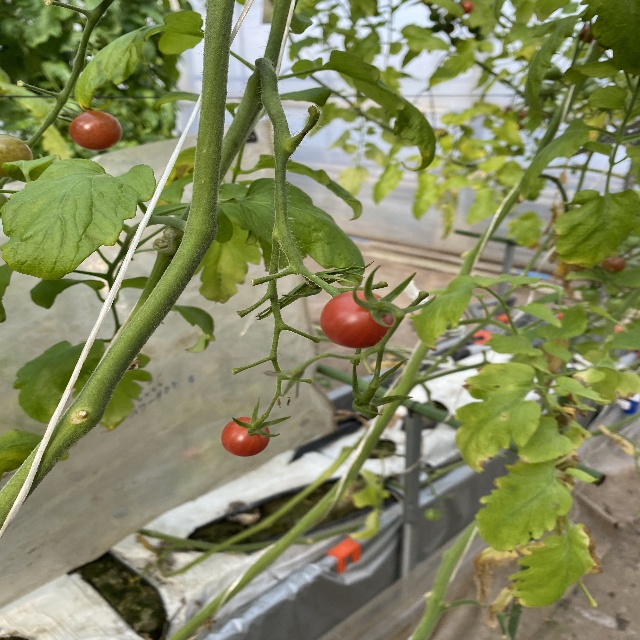l_fully_ripened: (319, 291, 395, 348), (221, 415, 271, 457)
l_half_ripened: (69, 109, 123, 150), (0, 134, 34, 178)
